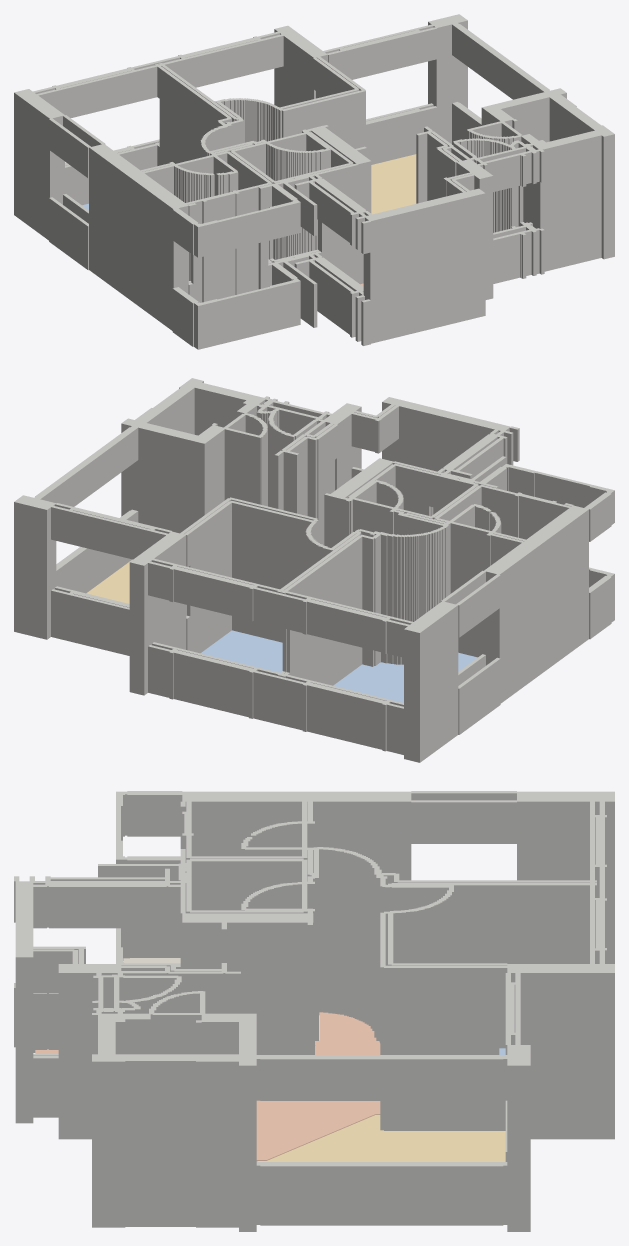
3 views of the same model, one above another, from view 1: azimuth 30°, elevation 25°; view 2: azimuth 150°, elevation 25°; view 3: azimuth 270°, elevation 25° (orthographic). The views are drawn at different scales.
Visible parts, largest first — view 1: walls, room:living:7; view 2: walls, room:bedroom:6, room:bedroom:0, room:living:7; view 3: walls, room:kitchen:4, room:living:7.
Boxes of the visible parts, <box> form: walls: <box>14,14,614,349</box>; room:living:7: <box>371,154,416,214</box>; walls: <box>14,378,614,762</box>; room:bedroom:6: <box>200,630,282,672</box>; room:bedroom:0: <box>333,652,477,702</box>; room:living:7: <box>86,559,132,603</box>; walls: <box>14,791,614,1231</box>; room:kitchen:4: <box>256,1012,380,1161</box>; room:living:7: <box>256,1114,505,1161</box>.
Bounding box in the file's own units: 9.93 × 2.8 × 9.18.
